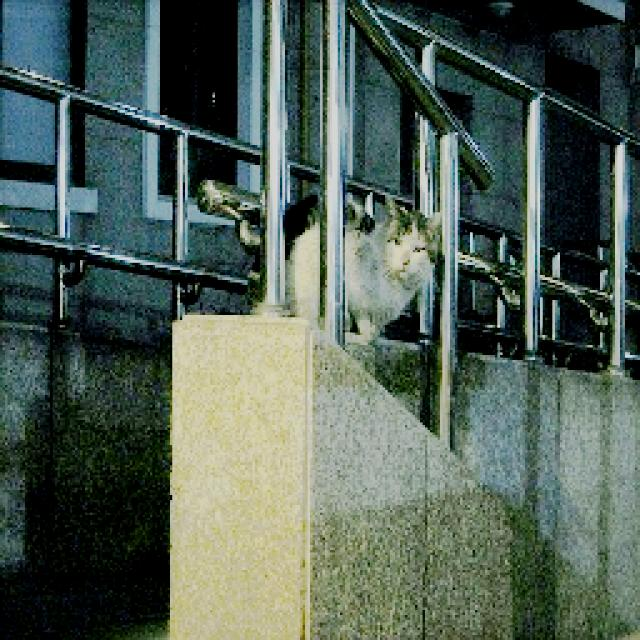cat: (262, 194, 444, 341)
